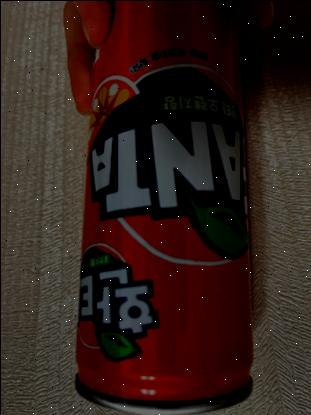Can: (69, 0, 256, 415)
